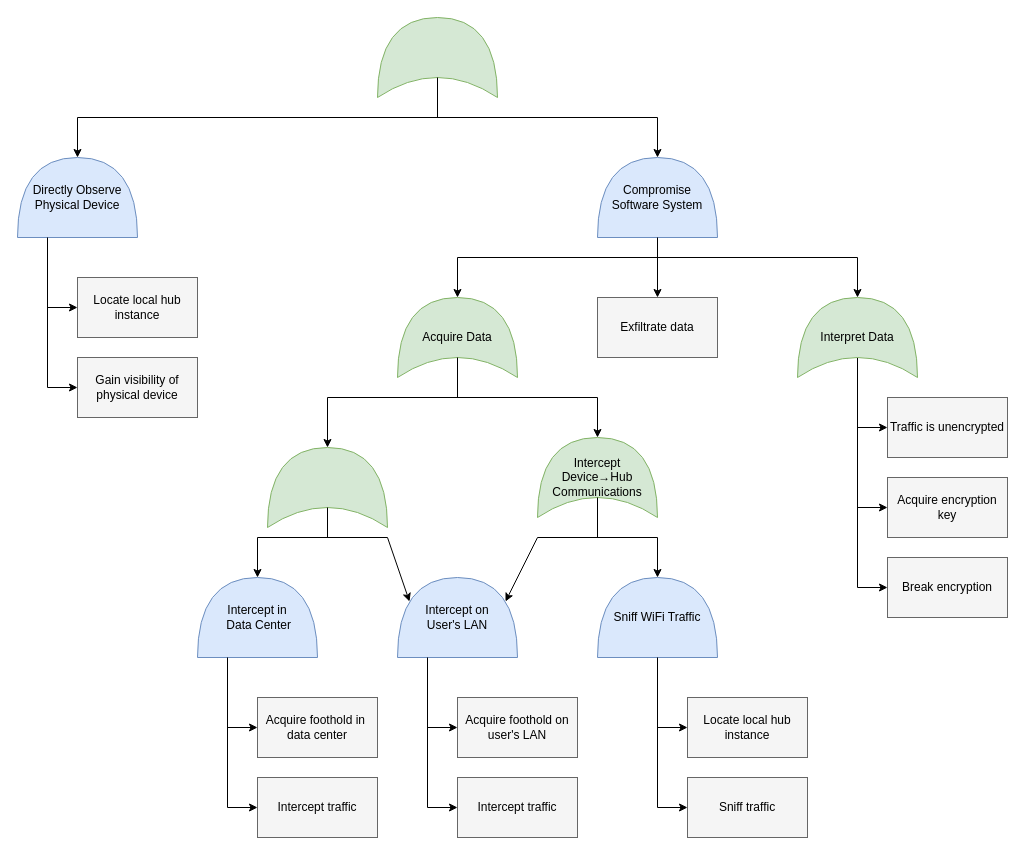
The diagram is 1025 pixels wide and 855 high, and some of its shapes have lost their labels. The centre of each missing label's shape, as x and y in pixels:
Disclose Device Status: (x=437, y=57)
Intercept Hub → Web Communications: (x=327, y=487)
